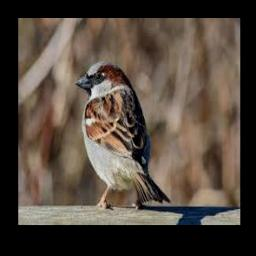Sparrow: (75, 61, 170, 209)
